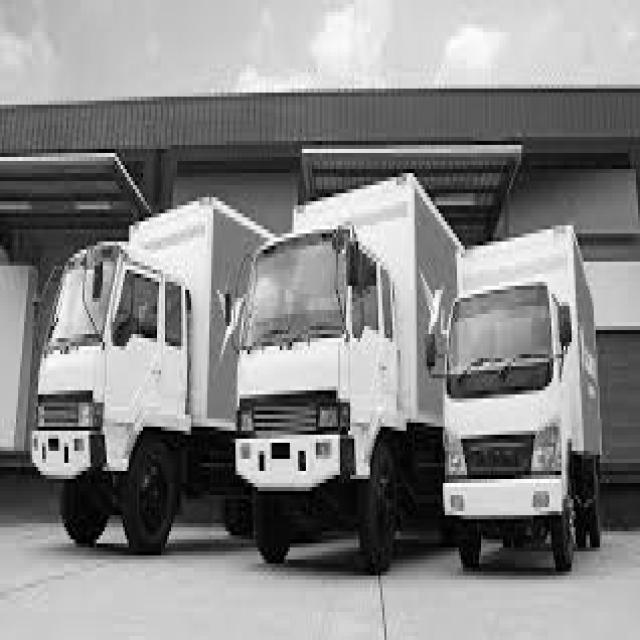truck: (222, 206, 409, 577), (25, 223, 208, 555), (426, 262, 587, 587)
